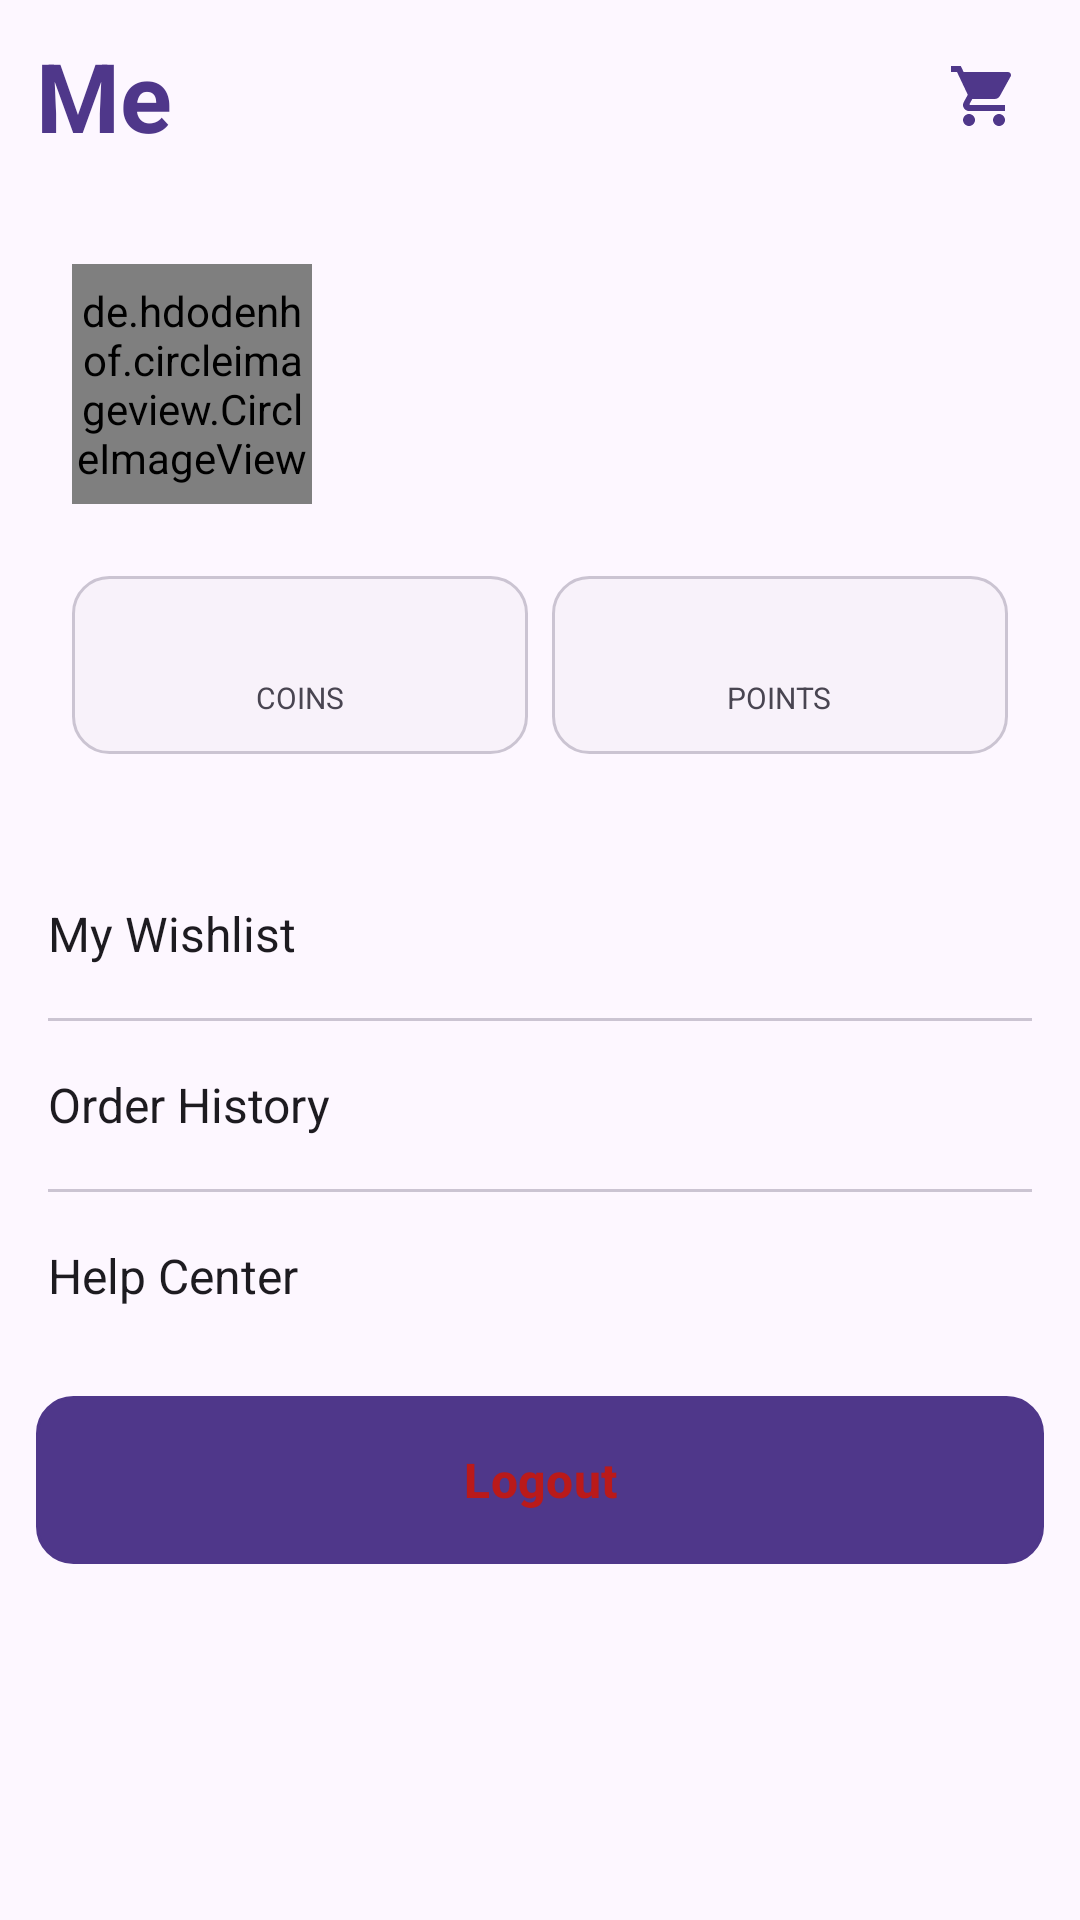

Screen size 1080×1920. Icon name, then its center in pixels as [x,y]:
Cart: [981,96]
